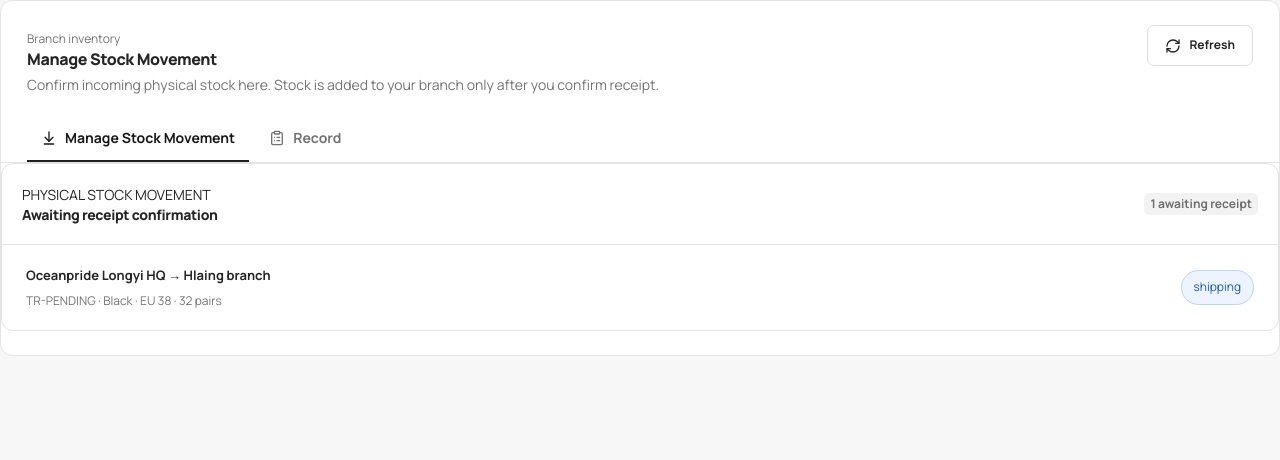
shows received physical stock records after switching to Record
Click the tab "Record": [305, 139] box [255,116,356,162]
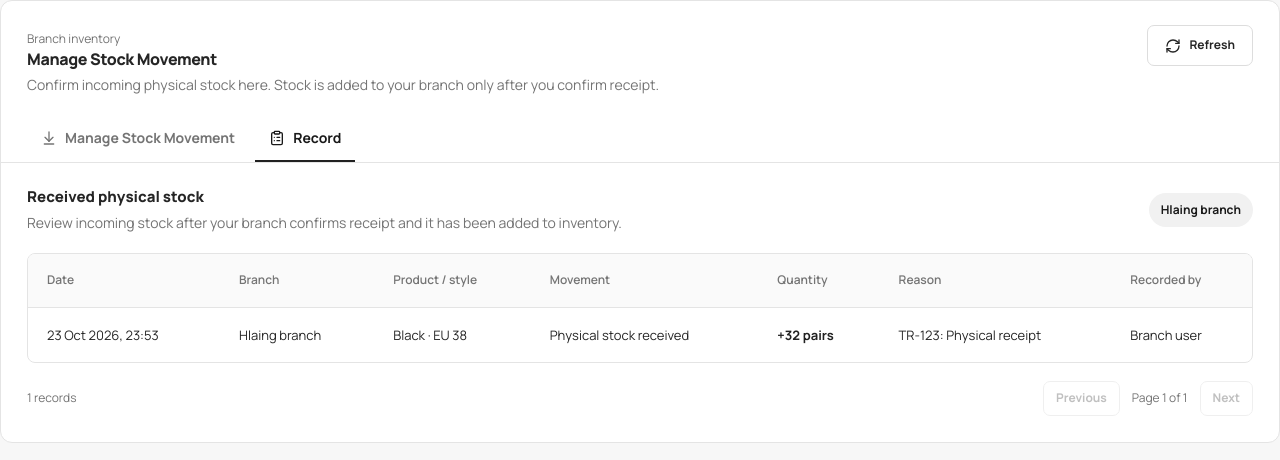
Now the text "Received physical stock" is shown, box [27,186,204,207]
Now the text "Physical stock received" is shown, box [531,307,758,362]
Now the text "+32 pairs" is shown, box [777,326,834,344]
